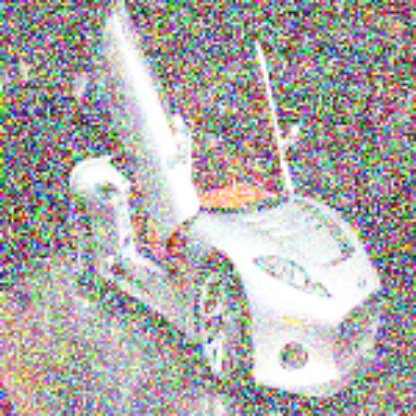Vehicle: (68, 5, 386, 404)
